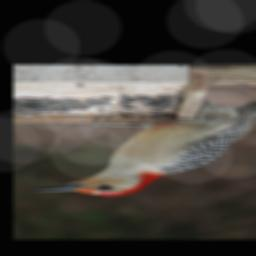Woodpecker: (30, 98, 256, 196)
